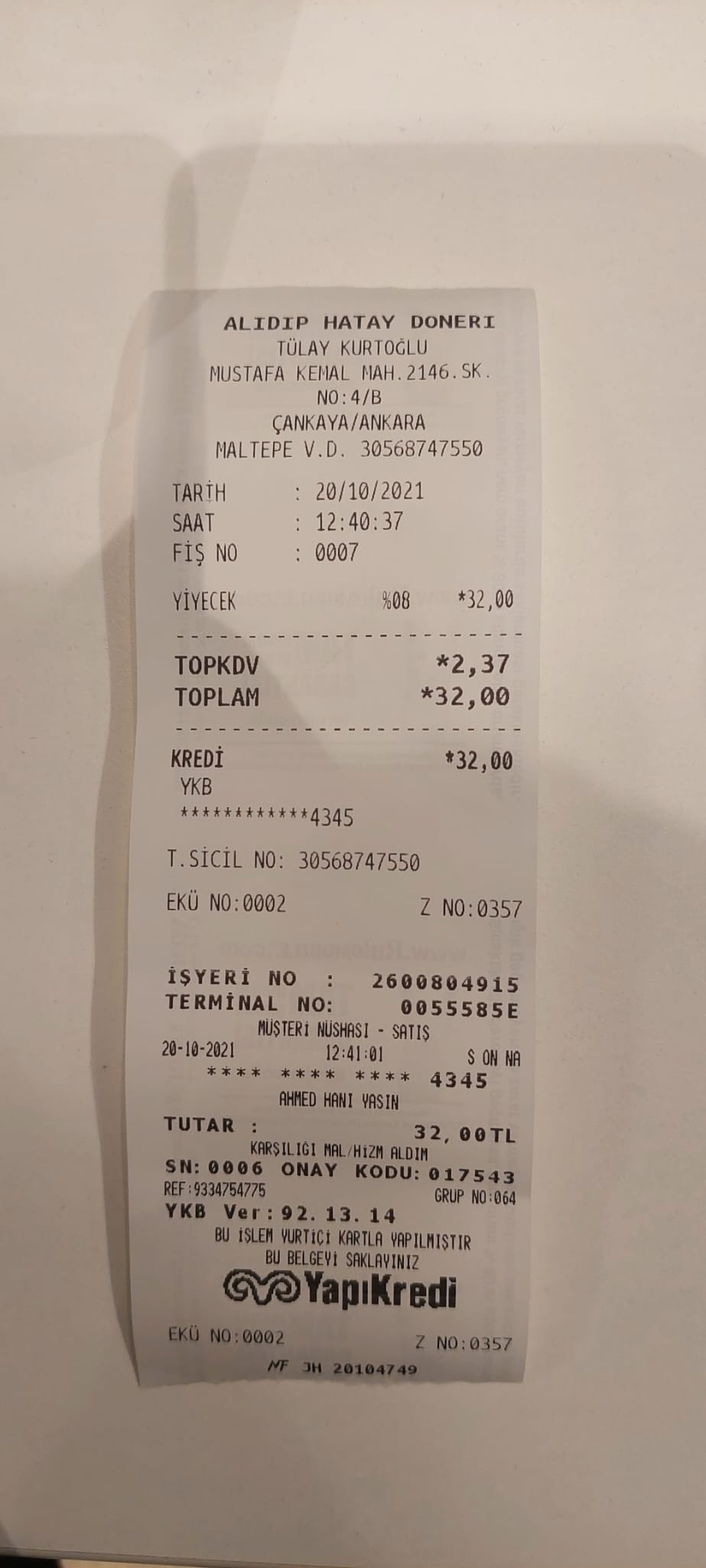date: (429, 679, 517, 721)
price: (309, 476, 433, 506)
workplace: (194, 303, 524, 436)
